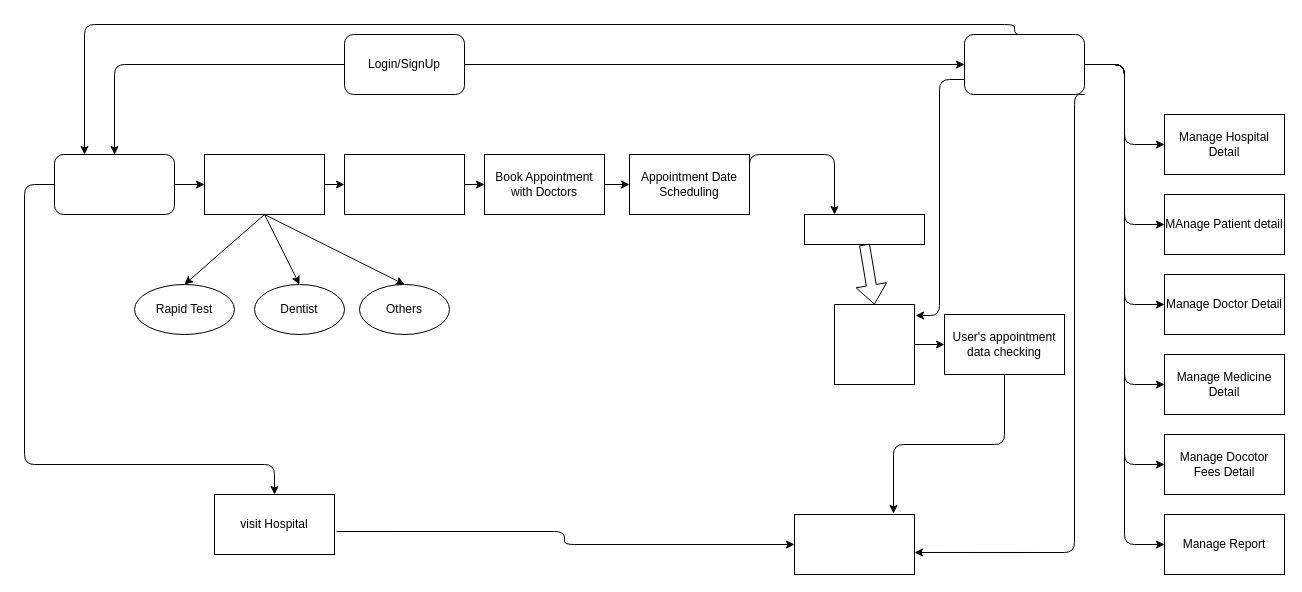
The diagram is 1302 pixels wide and 592 high, and some of its shapes have lost their labels. The shapes that lost their labels are listed below. From the top down, each one's centre as x and y in pixels, then its label:
At (1024,64): "Admin".
At (114,184): "User/Patient's Account".
At (264,184): "Select Speciality".
At (404,184): "Select Doctor According to health issues".
At (864,229): "Send Data".
At (874,344): "Server".
At (854,544): "Hospital".
